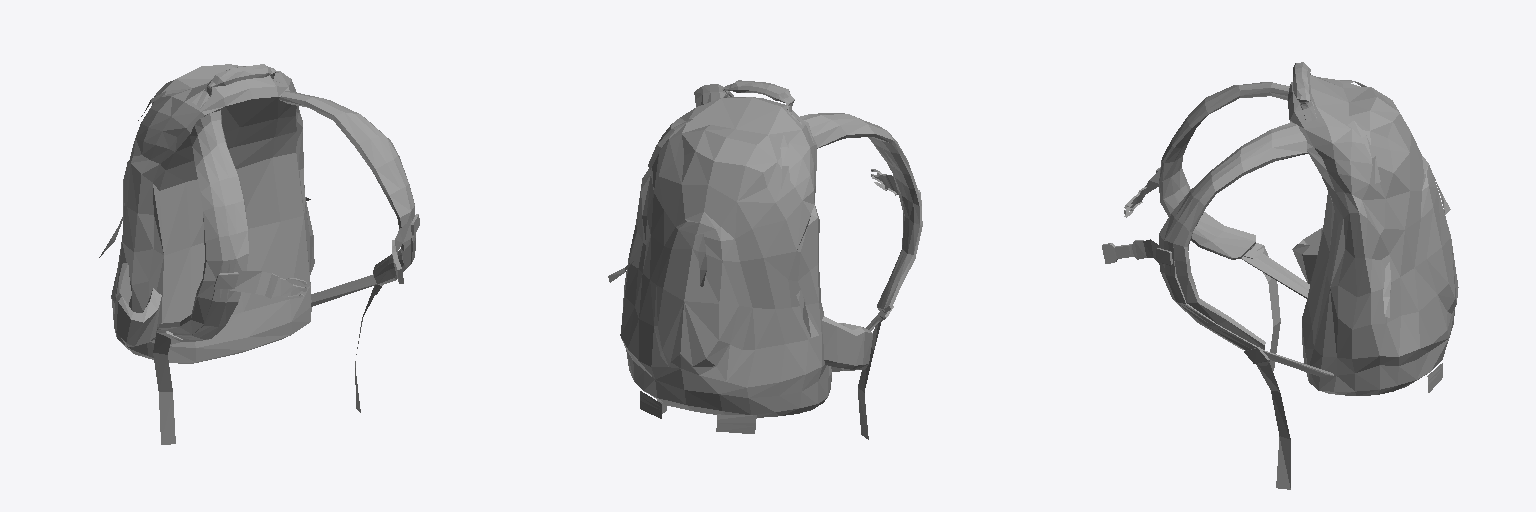
File: backpack.obj
3 views of the same model, side by side, from view 1: azimuth 30°, elevation 25°; view 2: azimuth 150°, elevation 25°; view 3: azimuth 270°, elevation 25° (orthographic).
Size of the model in its own units: 0.7413 by 1.1 by 0.976.